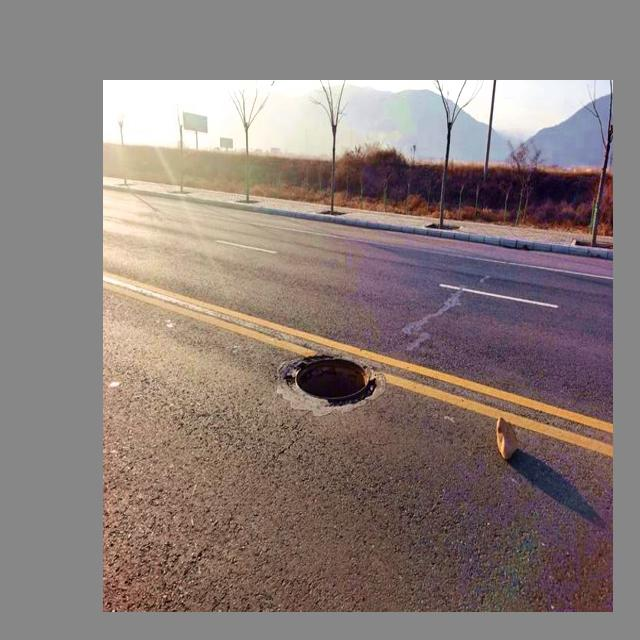lose: (263, 348, 389, 418)
